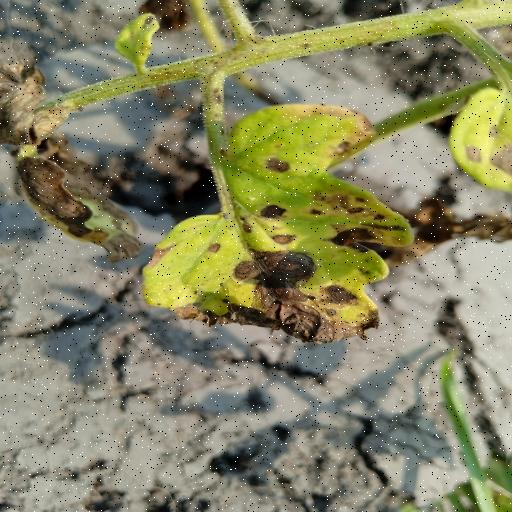Tomato_Brown_Spots: (145, 101, 411, 345)
